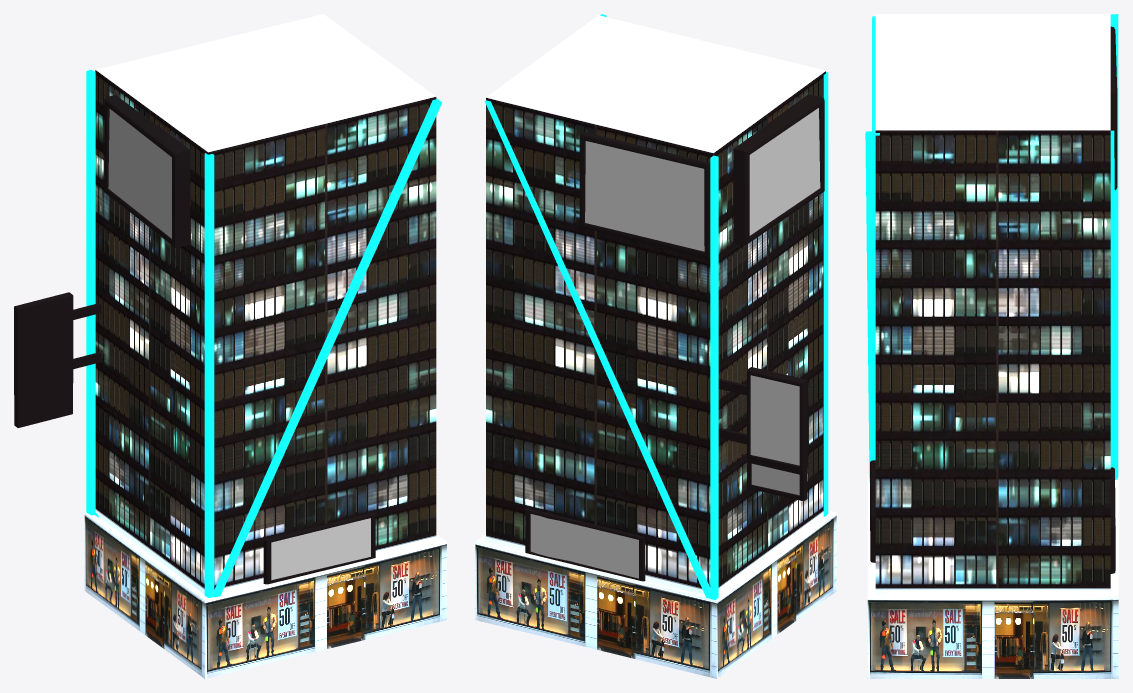
File: BLD1310010.fbx
3 renders of one model, left to right at view 1: azimuth 30°, elevation 25°; view 2: azimuth 150°, elevation 25°; view 3: azimuth 270°, elevation 25°, orthographic. The views are drawn at different scales.
Parts seen in each view (by area): view 1: smBLD1310010; view 2: smBLD1310010; view 3: smBLD1310010.
Boxes of the visible parts, x1,y1,x2,y2 form: smBLD1310010: (14,14,446,678); smBLD1310010: (475,14,836,678); smBLD1310010: (865,14,1118,678).
Size of the model in its own units: 1151 by 1790 by 753.
5 materials, 1 textured.
